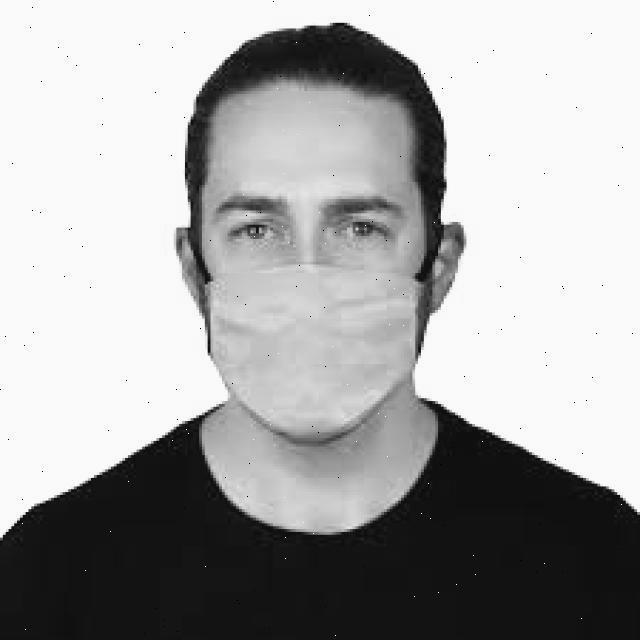fake: (152, 236, 468, 442)
real: (202, 92, 433, 452)
